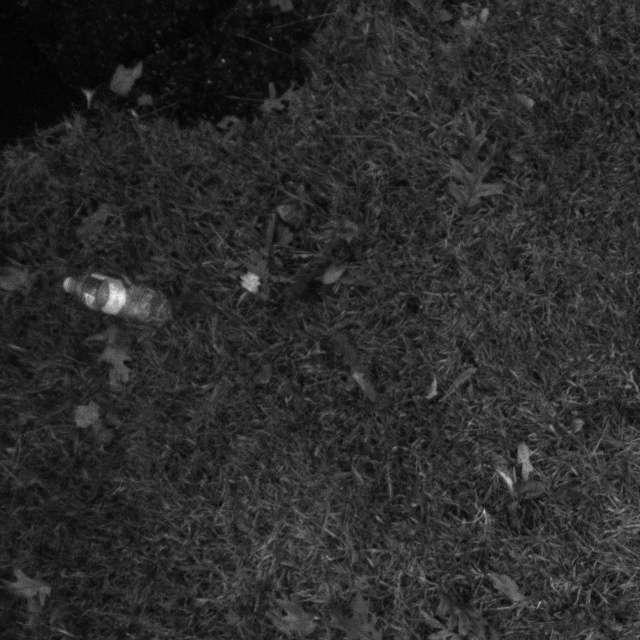bottle: (45, 250, 179, 342)
